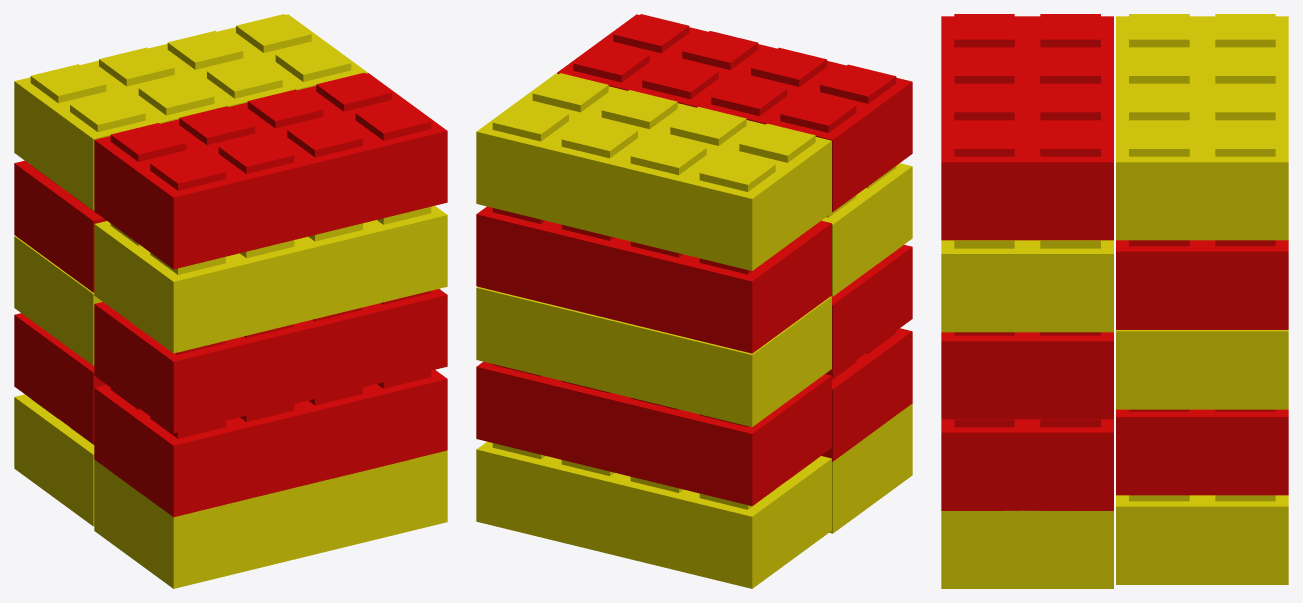
Rendered from Building Blocks.fbx.
The picture shows the model from 3 angles, left to right: view 1: azimuth 30°, elevation 25°; view 2: azimuth 150°, elevation 25°; view 3: azimuth 270°, elevation 25°; orthographic projection. The views are drawn at different scales.
Parts seen in each view (by area): view 1: Blocks; view 2: Blocks; view 3: Blocks.
Boxes of the visible parts, bbox=[...] form: Blocks: bbox=[14, 14, 447, 588]; Blocks: bbox=[476, 14, 912, 588]; Blocks: bbox=[941, 14, 1288, 588].
Size of the model in its own units: 75.43 by 105 by 75.93.
